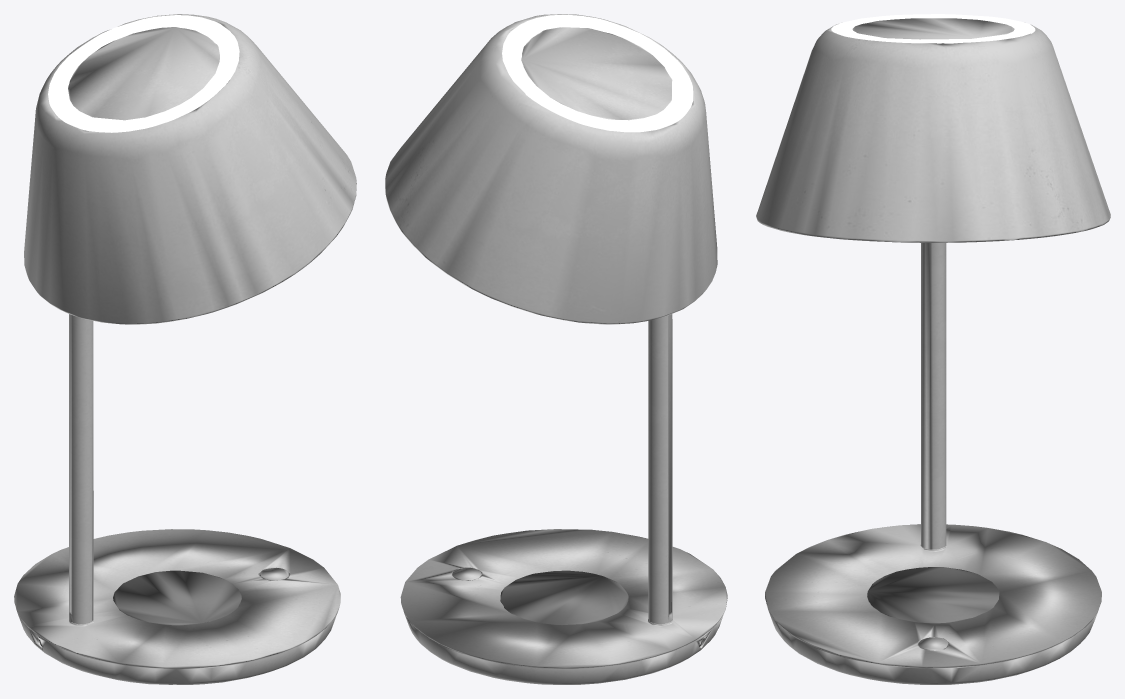
The model's file is lamp_table_bedside_a01.glb.
The picture shows the model from 3 angles, left to right: view 1: azimuth 30°, elevation 25°; view 2: azimuth 150°, elevation 25°; view 3: azimuth 270°, elevation 25°; orthographic projection. The views are drawn at different scales.
Parts seen in each view (by area): view 1: lamp_table_bedside_a01; view 2: lamp_table_bedside_a01; view 3: lamp_table_bedside_a01.
Part boxes in pixels (x1=…): lamp_table_bedside_a01: x1=14, y1=14, x2=356, y2=684; lamp_table_bedside_a01: x1=385, y1=14, x2=727, y2=684; lamp_table_bedside_a01: x1=756, y1=14, x2=1110, y2=684.
Size of the model in its own units: 0.1977 by 0.3715 by 0.1986.
Materials: 5 (4 with a texture image).
